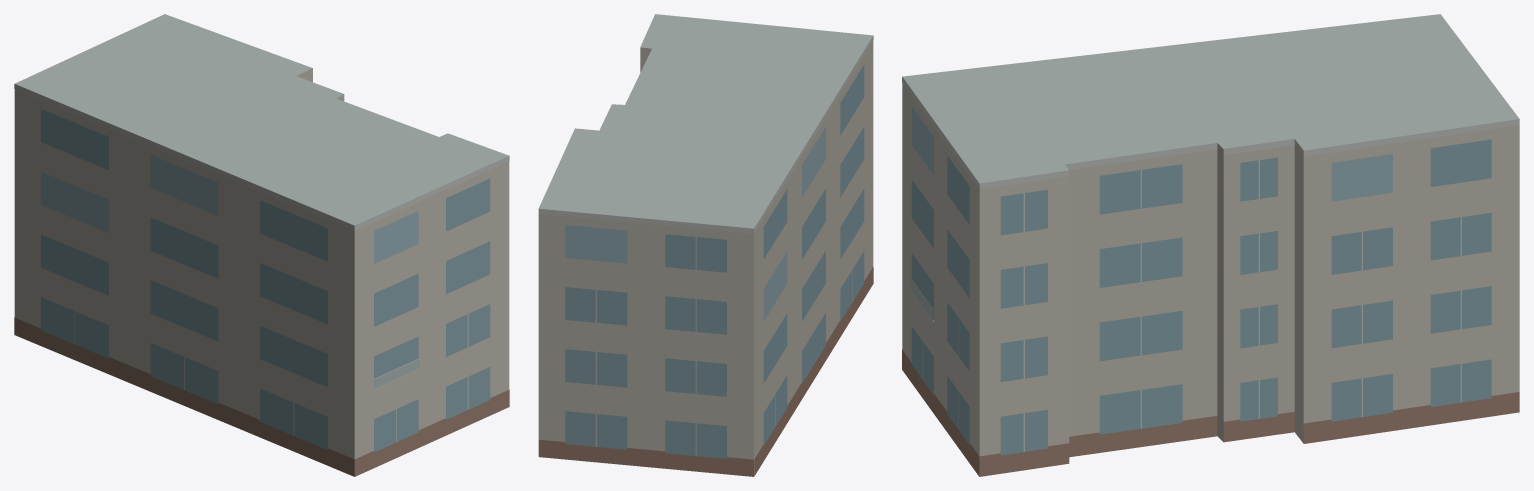
The model's file is survey-upis-32490437.glb.
3 views of the same model, side by side, from view 1: azimuth 30°, elevation 25°; view 2: azimuth 150°, elevation 25°; view 3: azimuth 270°, elevation 25° (orthographic). The views are drawn at different scales.
Parts seen in each view (by area): view 1: survey-upis-32490437.tmp; view 2: survey-upis-32490437.tmp; view 3: survey-upis-32490437.tmp.
Part boxes in pixels (x1,y1,x2,y2): survey-upis-32490437.tmp: (14,14,509,476); survey-upis-32490437.tmp: (538,14,873,476); survey-upis-32490437.tmp: (902,14,1519,476).
Size of the model in its own units: 14.51 by 11.7 by 22.33.
